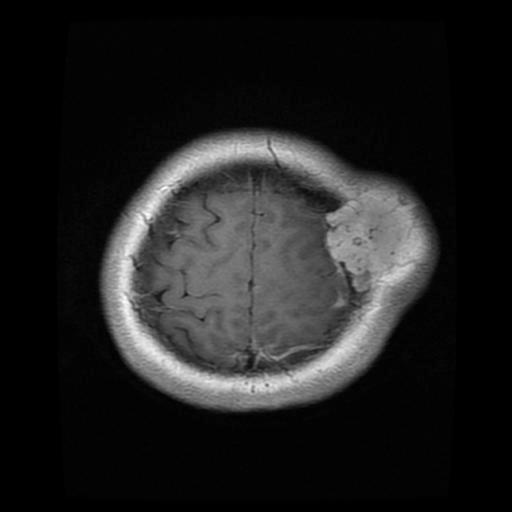Tumour-Meningioma: (300, 184, 441, 318)
